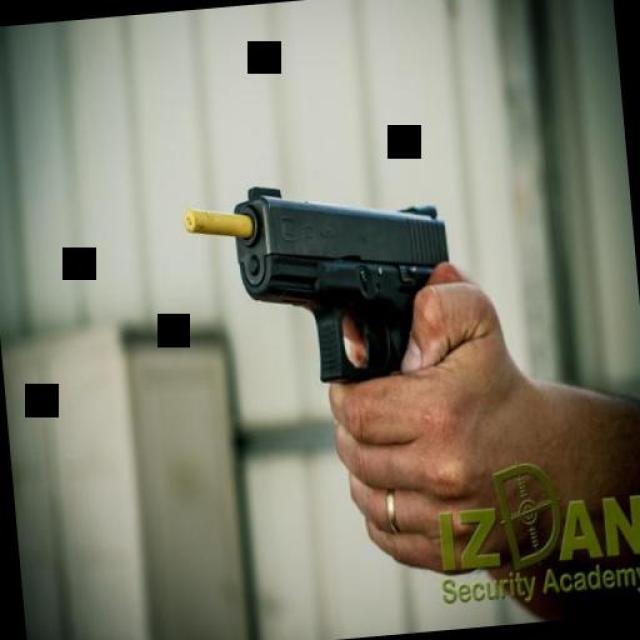gun: (229, 172, 459, 394)
